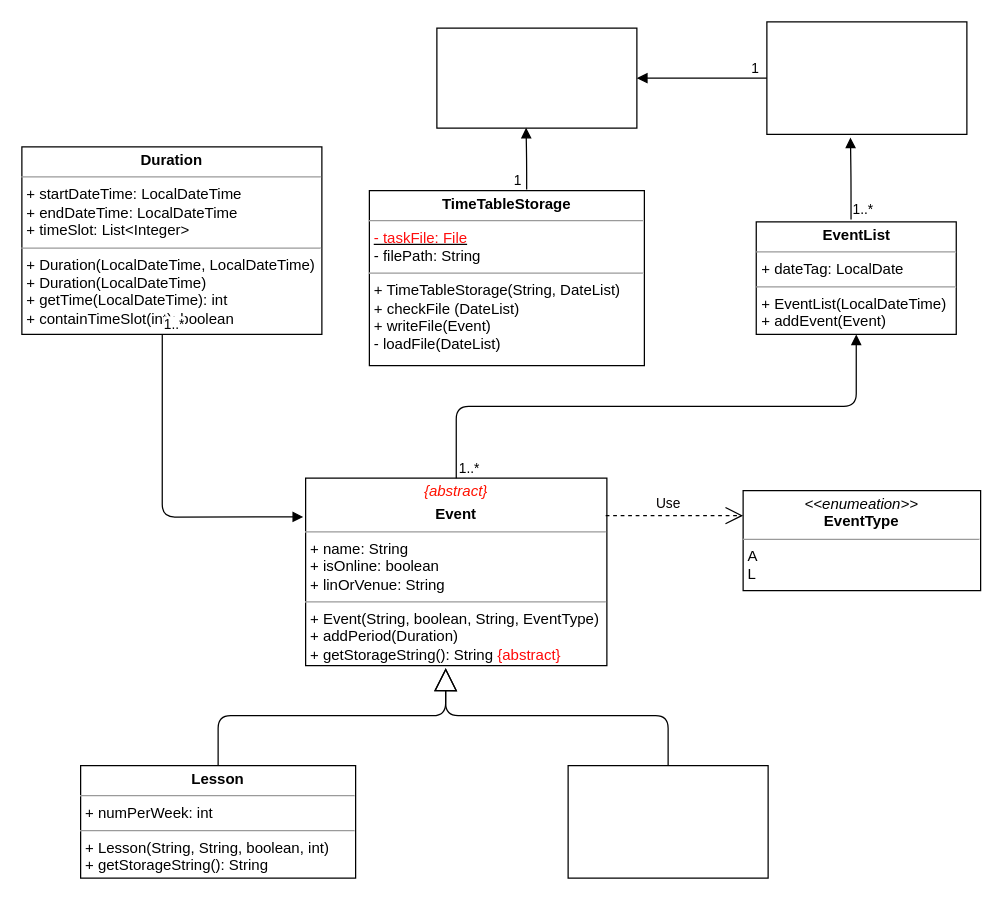
Image size: 1003x900. Some labels were removed from this diagram. The centre of each missing label's shape, as x and y in pixels:
"Activity + addPeriod(Duration) + getStorageString(): String" goes at pixel 667 821.
"DateList + DateList() + addLesson(Event)" goes at pixel 866 77.
"TimeTableRun + TimeTableRun() + run(String)" goes at pixel 536 77.
